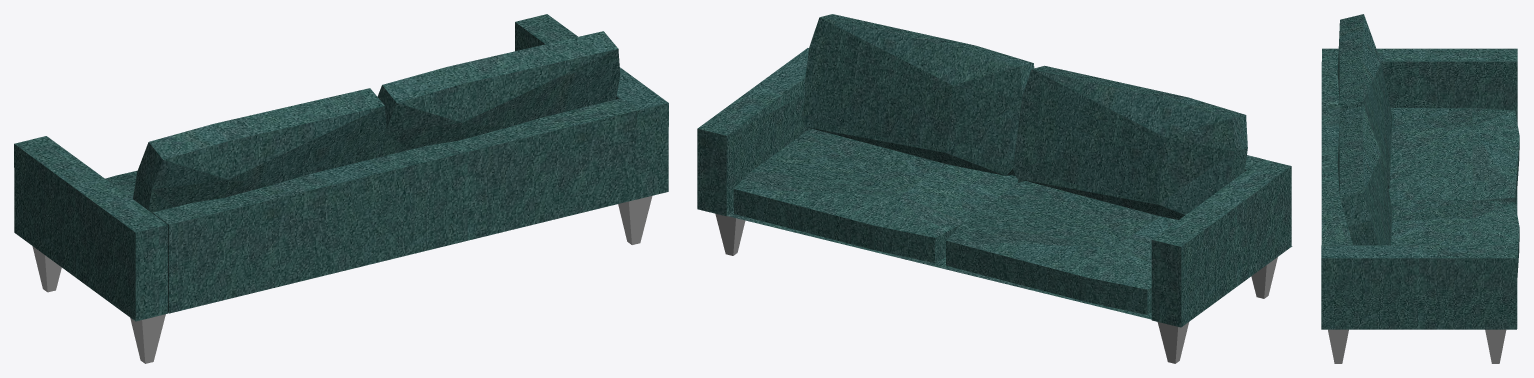
File: 2bhk sofa.gltf
The picture shows the model from 3 angles, left to right: view 1: azimuth 30°, elevation 25°; view 2: azimuth 150°, elevation 25°; view 3: azimuth 270°, elevation 25°; orthographic projection. The views are drawn at different scales.
Parts seen in each view (by area): view 1: skp1596; view 2: skp1596; view 3: skp1596.
Part boxes in pixels (x1=…): skp1596: x1=14, y1=14, x2=668, y2=363; skp1596: x1=697, y1=14, x2=1292, y2=363; skp1596: x1=1321, y1=14, x2=1519, y2=363.
Size of the model in its own units: 1.69 by 0.6251 by 0.6755.
2 materials, 1 textured.
